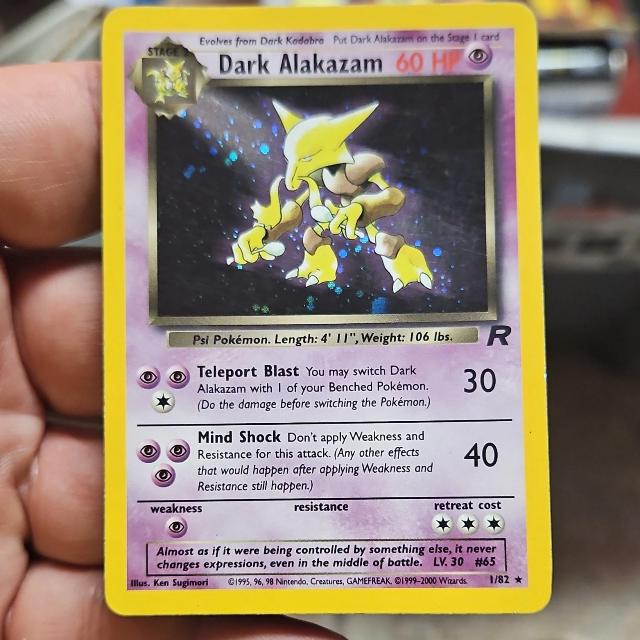Card: (97, 1, 559, 620)
Name: (214, 50, 387, 83)
